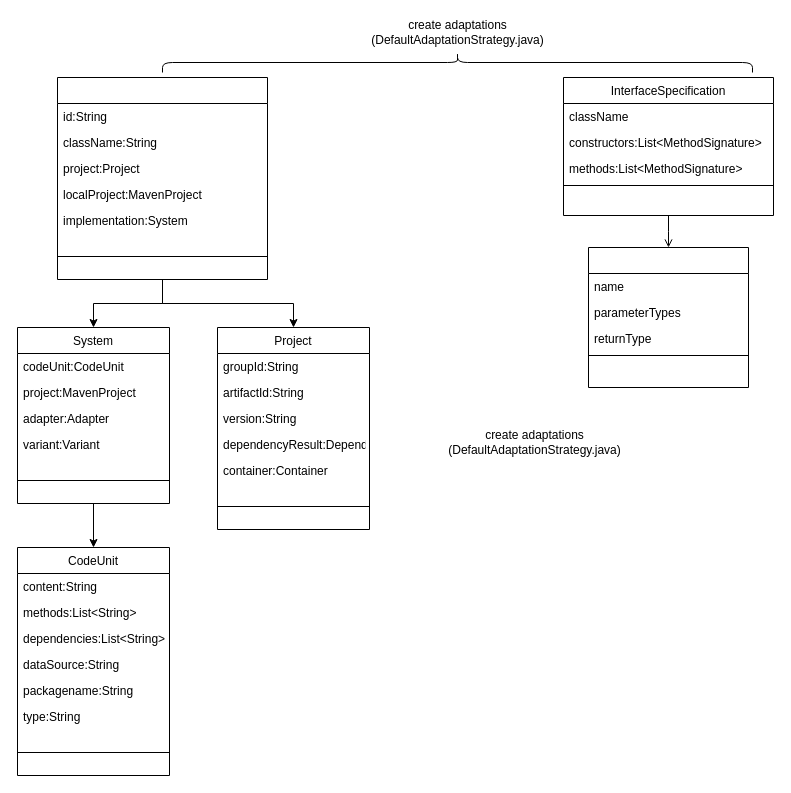
This 791x793 diagram has some shape labels left out. Each missing label, with the box of its shape:
ClassUnderTest: (56, 76, 268, 280)
MethodSignature: (588, 246, 748, 388)
